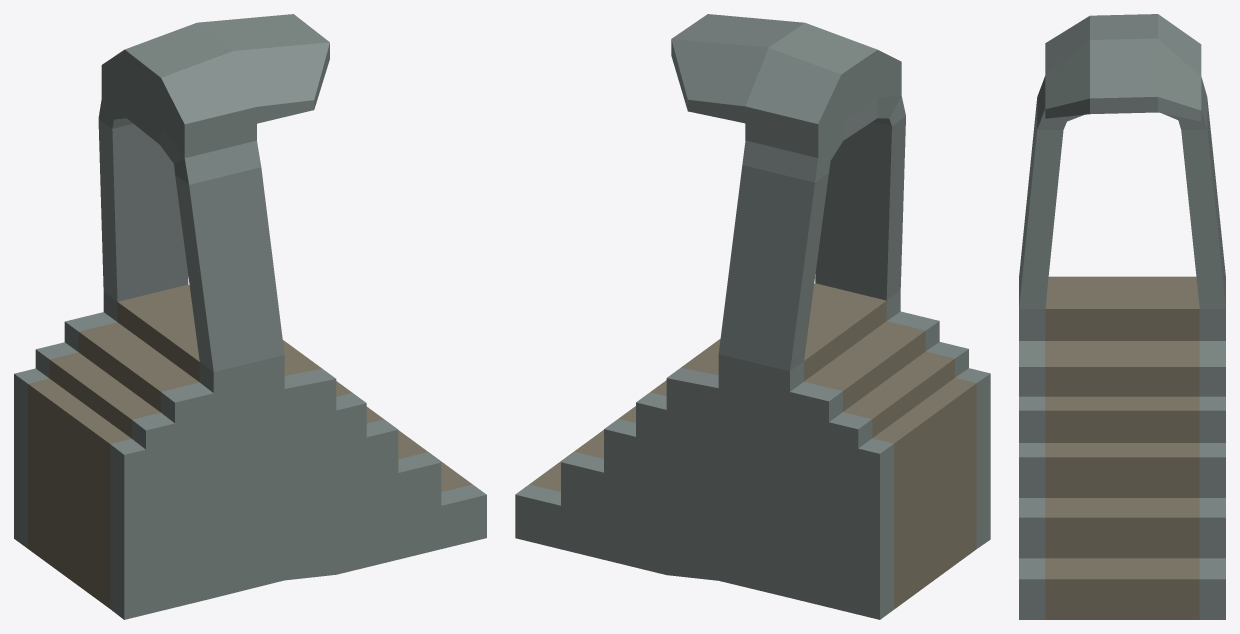
File: house_staircase.fbx
3 renders of one model, left to right at view 1: azimuth 30°, elevation 25°; view 2: azimuth 150°, elevation 25°; view 3: azimuth 270°, elevation 25°, orthographic. The views are drawn at different scales.
Parts seen in each view (by area): view 1: staircase; view 2: staircase; view 3: staircase.
Boxes of the visible parts, x1,y1,x2,y2 form: staircase: (14,14,486,619); staircase: (515,14,990,619); staircase: (1019,14,1225,619).
Bounding box in the file's own units: 5.19 × 7.03 × 2.73.
